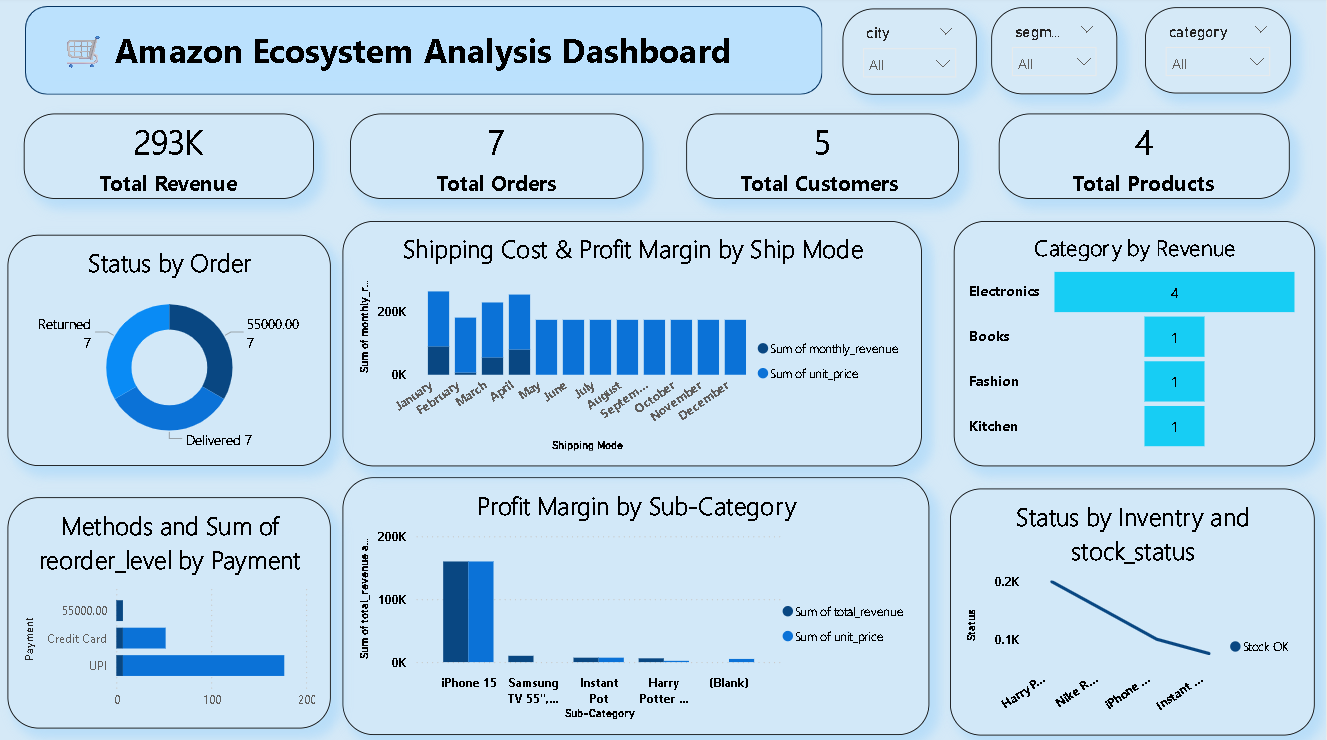

The dashboard page shown, as its layout file describes it:
{"tool":"powerbi","page":{"name":"Page 1","canvas":[1280,720],"ordinal":0},"visuals":[{"type":"card","fields":{"Values":["Sum(order_status.total_orders)"]},"box":[338,114,283,82],"z":0},{"type":"card","fields":{"Values":["CountNonNull(customer_spending.customer_name)"]},"box":[662,114,263,82],"z":1000},{"type":"card","fields":{"Values":["Sum(revenue_by_category.Total Revenue)"]},"box":[23,114,280,82],"z":2000},{"type":"card","fields":{"Values":["CountNonNull(top_products.product_name)"]},"box":[964,114,281,82],"z":3000},{"type":"clusteredColumnChart","title":"Profit Margin by Sub-Category","fields":{"Category":["top_products.product_name"],"Y":["Sum(top_products.total_revenue)","Sum(amazon_main_data.unit_price)"]},"box":[331,464,566,249],"z":4000},{"type":"lineStackedColumnComboChart","title":"Shipping Cost & Profit Margin  by Ship Mode","fields":{"Category":["monthly_sales.month.Variation.Date Hierarchy.Month"],"Y":["Sum(monthly_sales.monthly_revenue)","Sum(amazon_main_data.unit_price)"]},"box":[331,217,559,237],"z":5000},{"type":"lineChart","fields":{"Category":["inventory_status.product_name"],"Y":["Sum(amazon_main_data.stock_quantity)"],"Series":["amazon_main_data.stock_status"]},"box":[917,475,352,238],"z":6000},{"type":"donutChart","fields":{"Y":["Sum(order_status.total_orders)"],"Category":["amazon_main_data.order_status"]},"box":[7,231,312,223],"z":7000},{"type":"slicer","fields":{"Values":["customer_spending.segment"]},"box":[957.3,11,121.5,83.7],"z":8000},{"type":"slicer","fields":{"Values":["revenue_by_category.category"]},"box":[1104.7,11.3,140.6,83.2],"z":9000},{"type":"barChart","fields":{"Category":["amazon_main_data.payment_method"],"Y":["Sum(payment_method.usage_count)","Sum(amazon_main_data.reorder_level)"]},"box":[7,484,312,223],"z":10000},{"type":"slicer","fields":{"Values":["customer_spending.city"]},"box":[813.1,12.3,129.4,83.2],"z":11000},{"type":"funnel","fields":{"Category":["amazon_main_data.category"],"Y":["CountNonNull(amazon_main_data.revenue)"]},"box":[920.5,217.2,348.7,236.5],"z":12000},{"type":"shape","box":[24.1,9.7,769.7,85.7],"z":13000},{"type":"textbox","box":[52.8,24.9,713.2,55.8],"z":14000}]}

Visuals, with their boxes in screenshot pixels (x1, y1, x2, y2), scaled from the page's 1280x720 canvas onto the 1327x740 screenshot:
card - Sum(order_status.total_orders): <bbox>350, 117, 644, 201</bbox>
card - CountNonNull(customer_spending.customer_name): <bbox>686, 117, 959, 201</bbox>
card - Sum(revenue_by_category.Total Revenue): <bbox>24, 117, 314, 201</bbox>
card - CountNonNull(top_products.product_name): <bbox>999, 117, 1291, 201</bbox>
"Profit Margin by Sub-Category" clusteredColumnChart: <bbox>343, 477, 930, 733</bbox>
"Shipping Cost & Profit Margin  by Ship Mode" lineStackedColumnComboChart: <bbox>343, 223, 923, 467</bbox>
lineChart - inventory_status.product_name x Sum(amazon_main_data.stock_quantity): <bbox>951, 488, 1316, 733</bbox>
donutChart - Sum(order_status.total_orders) x amazon_main_data.order_status: <bbox>7, 237, 331, 467</bbox>
slicer - customer_spending.segment: <bbox>992, 11, 1118, 97</bbox>
slicer - revenue_by_category.category: <bbox>1145, 12, 1291, 97</bbox>
barChart - amazon_main_data.payment_method x Sum(payment_method.usage_count): <bbox>7, 497, 331, 727</bbox>
slicer - customer_spending.city: <bbox>843, 13, 977, 98</bbox>
funnel - amazon_main_data.category x CountNonNull(amazon_main_data.revenue): <bbox>954, 223, 1316, 466</bbox>
shape: <bbox>25, 10, 823, 98</bbox>
textbox: <bbox>55, 26, 794, 83</bbox>
